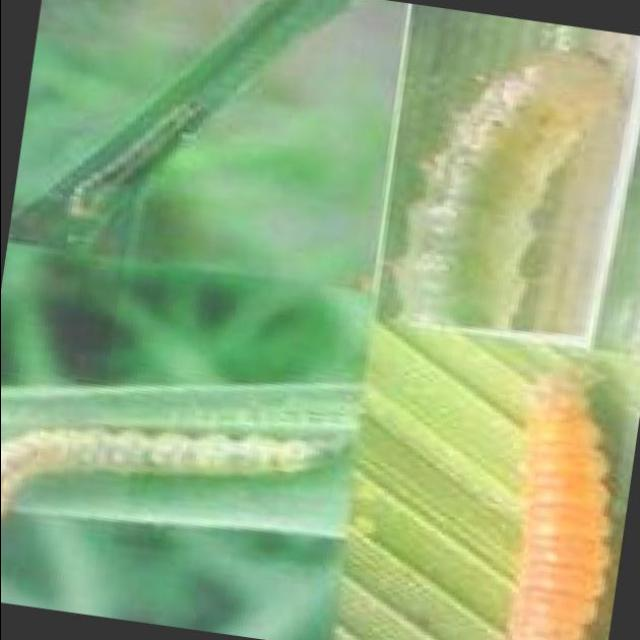leaf folder: (393, 31, 632, 335), (0, 428, 320, 517), (507, 380, 607, 640), (60, 100, 200, 216)
